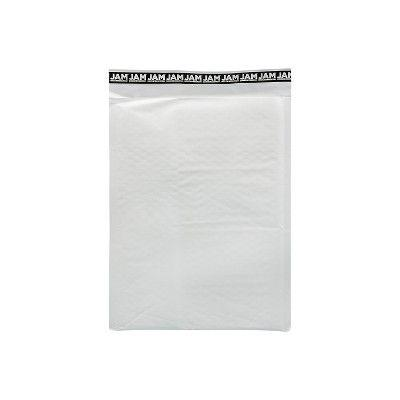LDPE: (108, 66, 292, 331)
